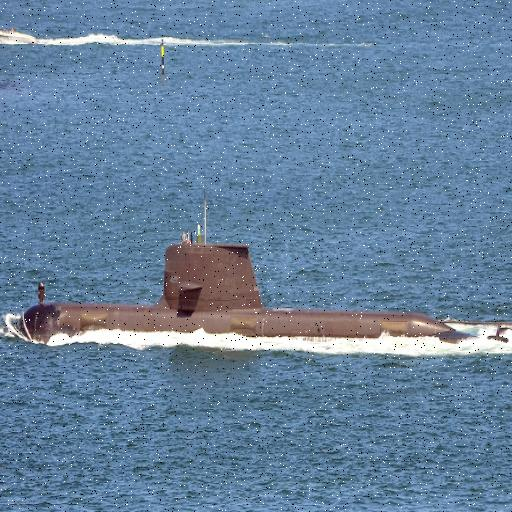submarine: (19, 191, 512, 343)
